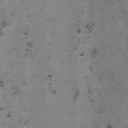oxide scale of temperature system: (73, 23, 98, 72), (13, 30, 34, 52), (72, 88, 94, 104), (0, 78, 18, 96), (110, 9, 126, 23), (0, 18, 12, 36), (48, 74, 57, 94), (0, 107, 11, 118), (106, 124, 112, 128), (98, 110, 102, 114)
